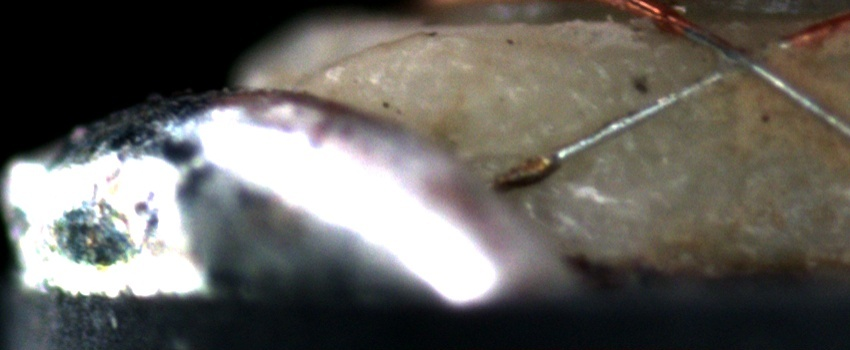CL: (699, 33, 780, 87)
TS: (492, 40, 791, 187)
TTCW: (483, 25, 831, 189)
